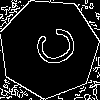C: (24, 23, 80, 74)
